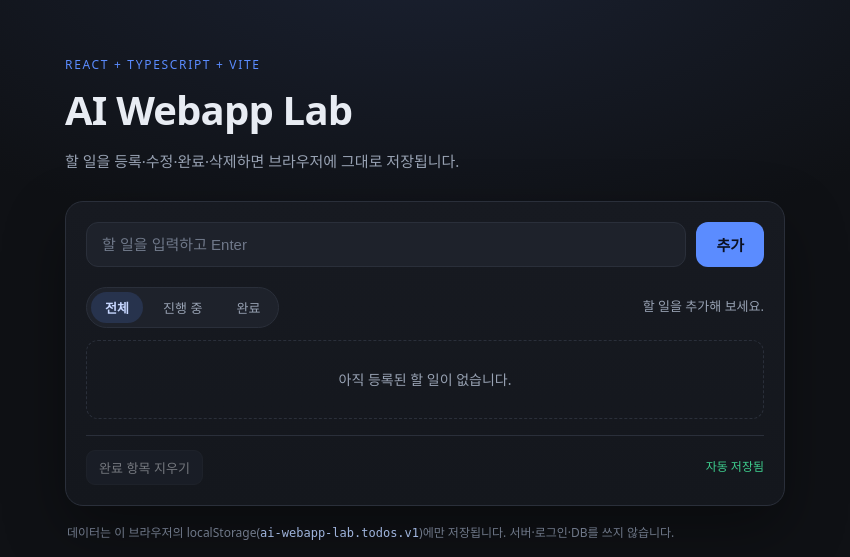
Test: AI Webapp Lab — 할 일 관리 › 앞뒤 공백과 연속 공백을 정리해 등록한다
Step 1. Type "  장보기    목록  " into the field with test id "todo-input" → coordinates (386, 244), box [86,222,686,266]
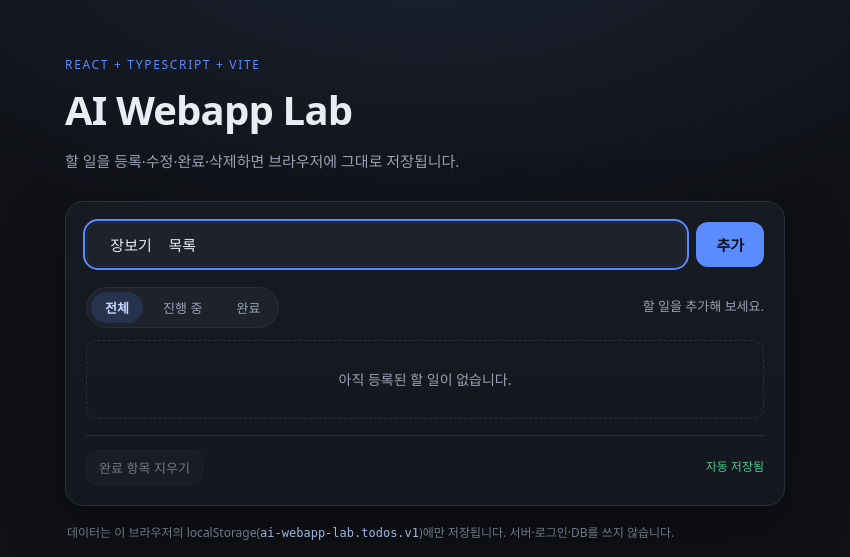
Step 2. Click the button with test id "todo-add" → coordinates (730, 244), box [696,222,764,266]
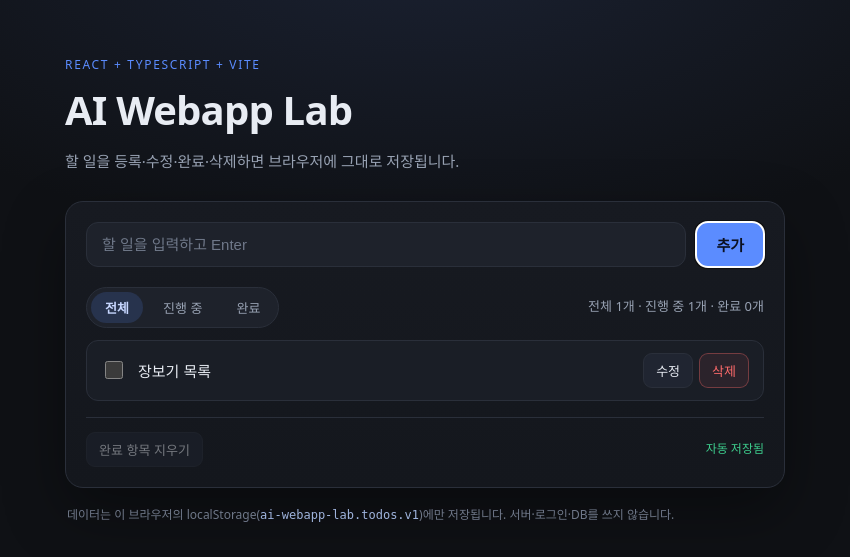
Now the button with test id "todo-title" reads "장보기 목록", box [138,360,631,380]
